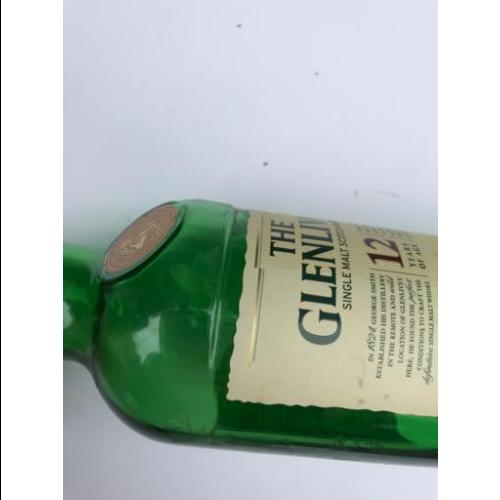glass: (64, 198, 437, 465)
